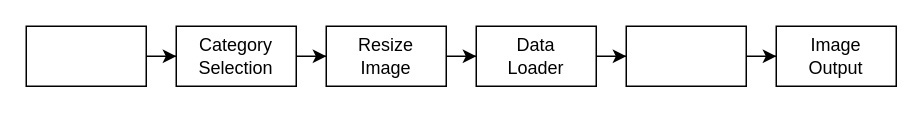
Image size: 923x113. Some labels were removed from this diagram. The centre of each missing label's shape, as x and y in pixels:
"cDCGAN Model" belongs at [685,55].
"RAW Dataset" belongs at [85,55].
